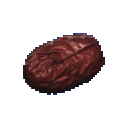ng: (18, 27, 109, 99)
